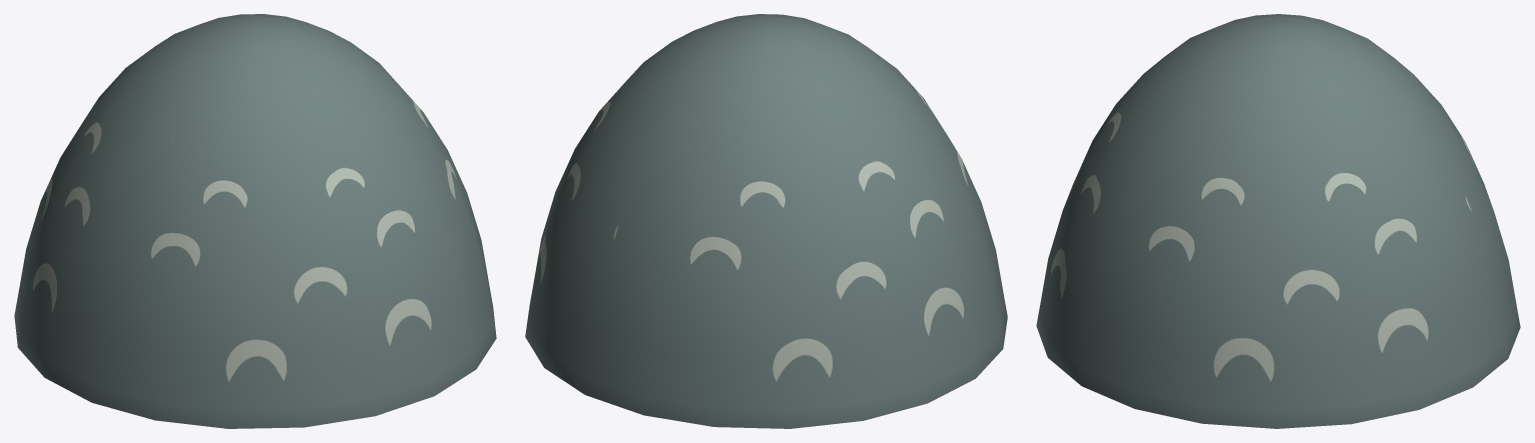
File: RockNoMusk.fbx
3 views of the same model, side by side, from view 1: azimuth 30°, elevation 25°; view 2: azimuth 150°, elevation 25°; view 3: azimuth 270°, elevation 25° (orthographic).
Visible parts, largest first — view 1: Rock70; view 2: Rock70; view 3: Rock70.
Part boxes in pixels (x1,y1,x2,y2): Rock70: (14, 14, 496, 428); Rock70: (525, 14, 1007, 428); Rock70: (1036, 14, 1520, 428).
Size of the model in its own units: 2.41 by 1.63 by 2.41.
